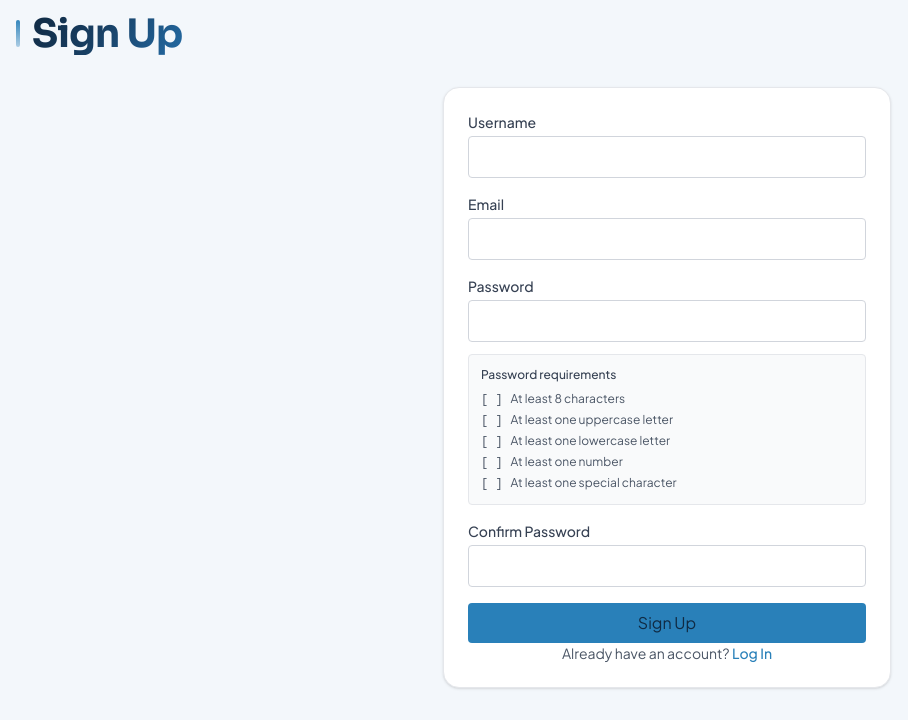
Scenario: Signup page › blocks submit for weak passwords and shows missing requirements
In the field labelled "Username": (667, 157) [468,136,866,178], type "newuser"
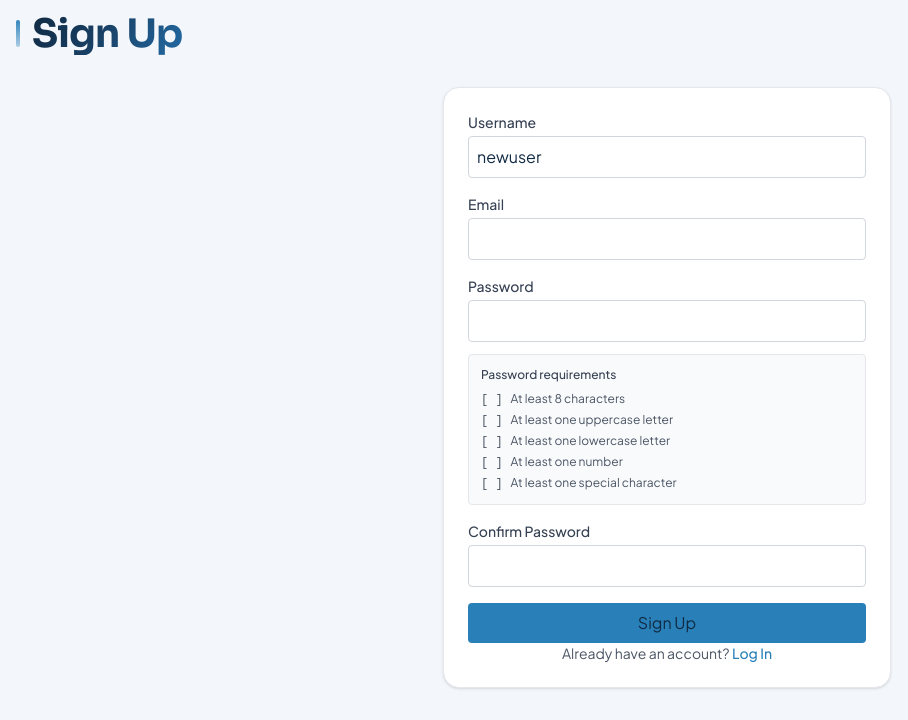
In the field labelled "Email": (667, 239) [468,218,866,260], type "newuser@example.com"
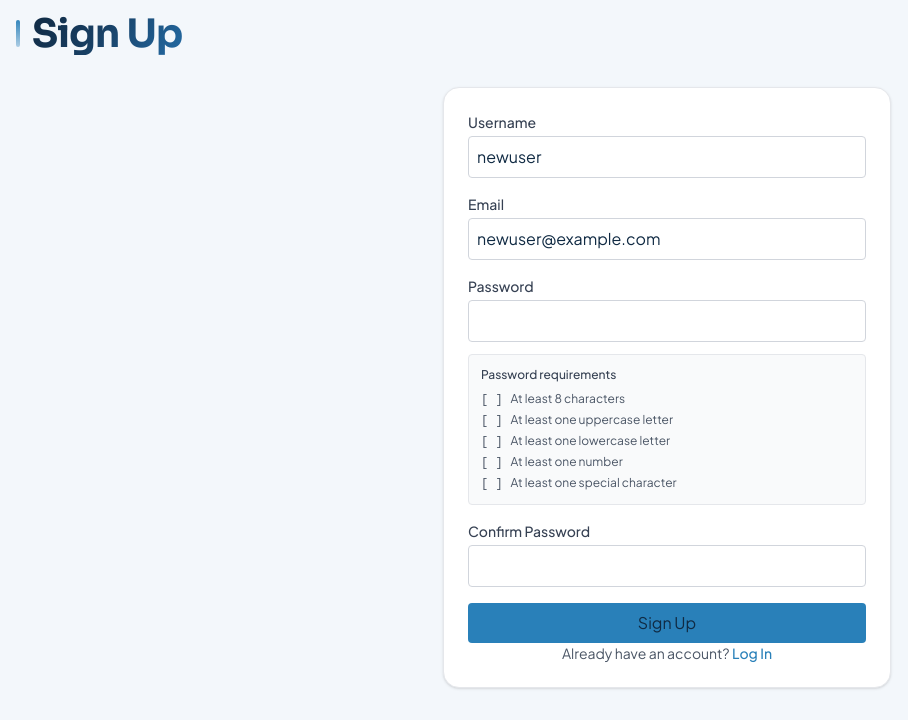
In the password field labelled "Password": (667, 321) [468,300,866,342], type "short"
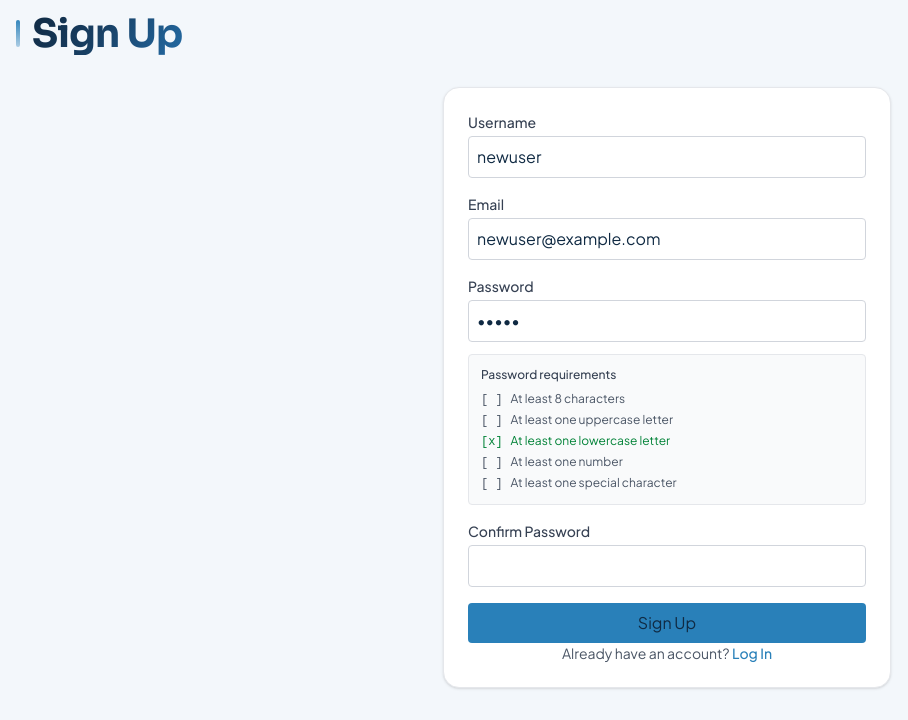
In the password field labelled "Confirm Password": (667, 566) [468,545,866,587], type "short"
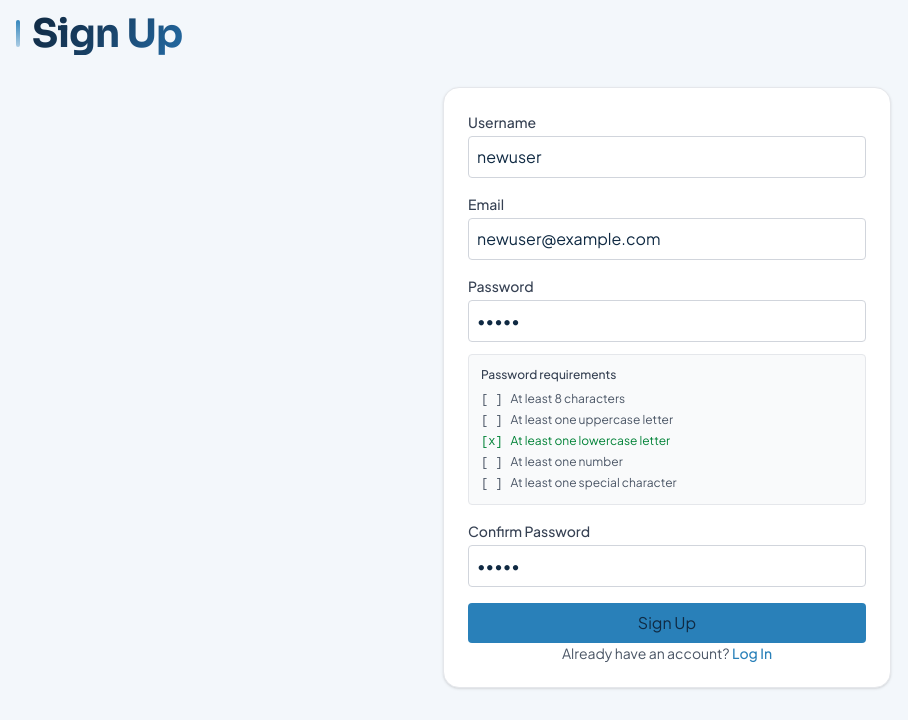
Click the button "Sign Up": (667, 623) [468,603,866,643]
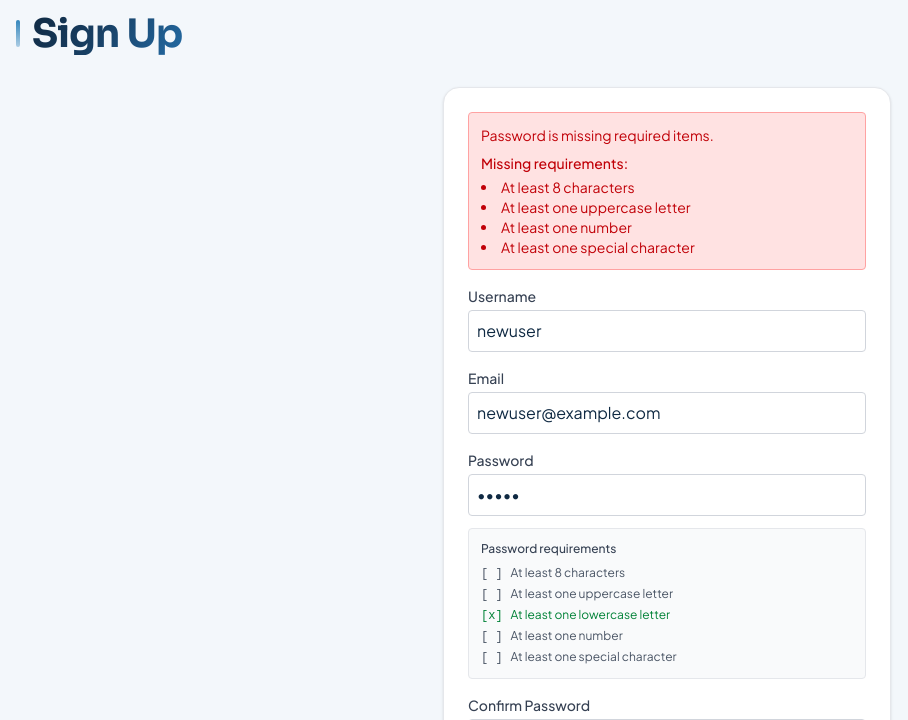
Expected: the text "Password is missing required items." is shown, [481,126,714,144]
Expected: the text "Missing requirements:" is shown, [481,154,628,172]
Expected: the list item "At least 8 characters" is shown, [501,178,634,196]
